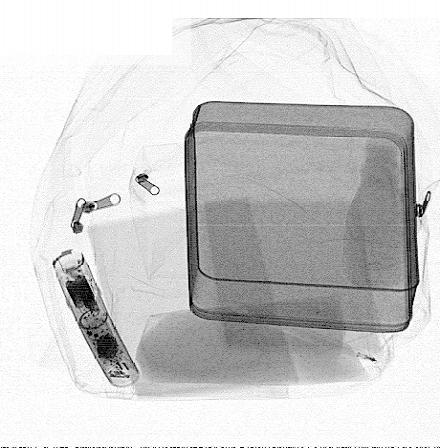Baton: (50, 247, 142, 388)
